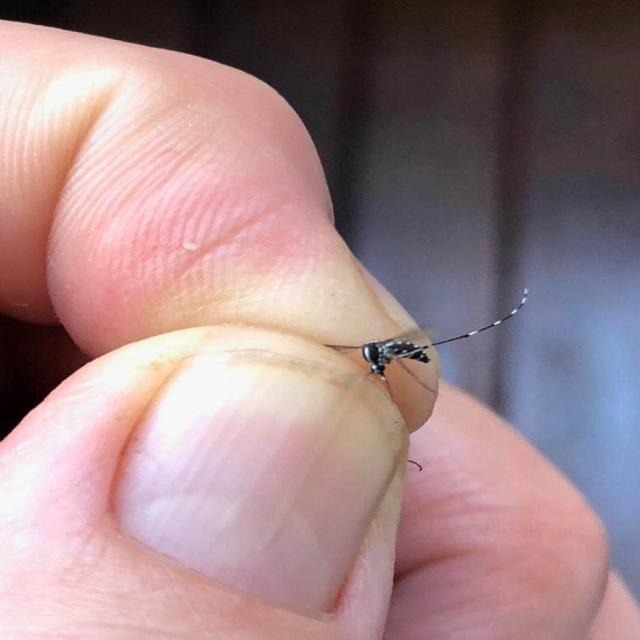albopictus: (312, 277, 536, 452)
